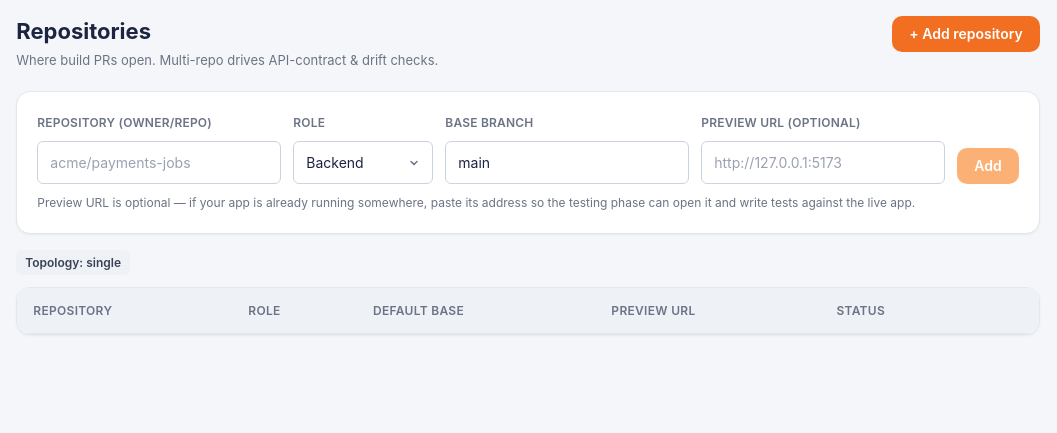
Test case: repositories › surfaces a refusal to add, not only a duplicate
Type "acme/new" into the field with placeholder "acme/payments-jobs" at (159, 162), box [37, 141, 281, 184]
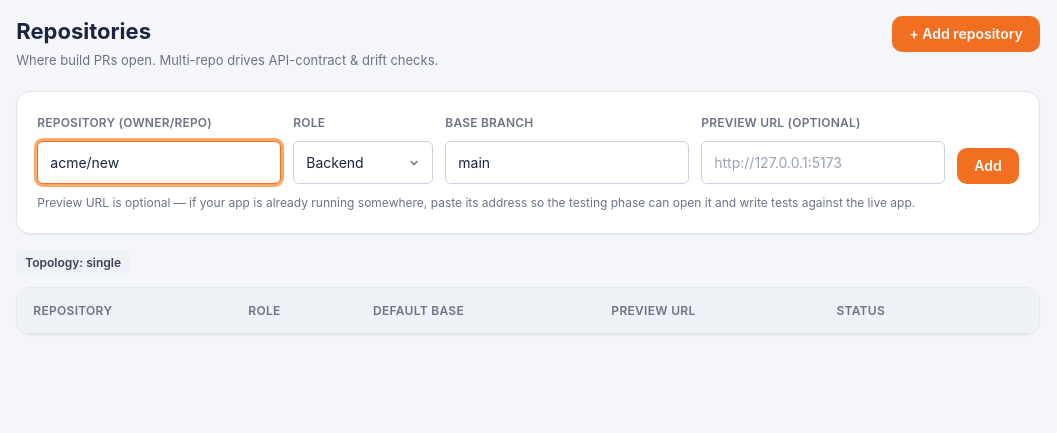
Click the button "Add" at (988, 166), box [957, 148, 1019, 184]
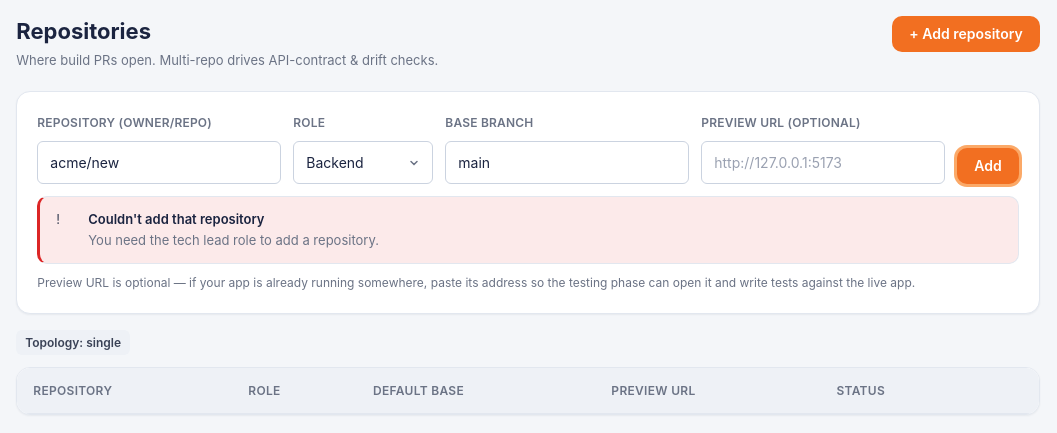
Expected: the text "Couldn't add that repository" is shown, [88, 211, 264, 227]
Expected: the text "You need the tech lead role to add a repository." is shown, [88, 232, 379, 248]
